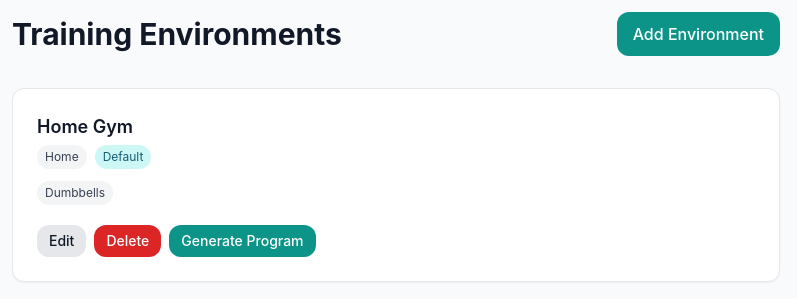
it: EnvironmentsPage › should delete an environment after confirmation
Expected: the heading "Home Gym" is shown, [37,116,133,137]
Click the button "Delete" at (128, 241), box [94,225,161,257]
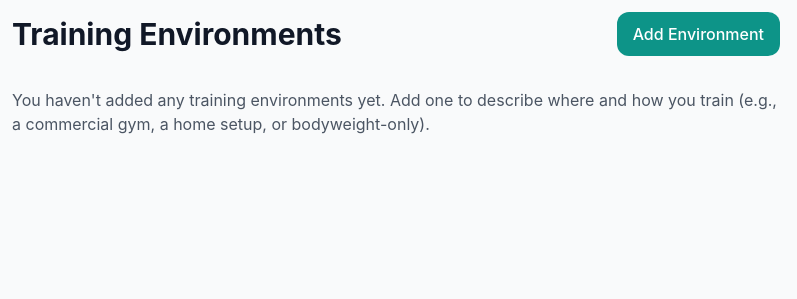
Expected: the heading "Home Gym" is gone
